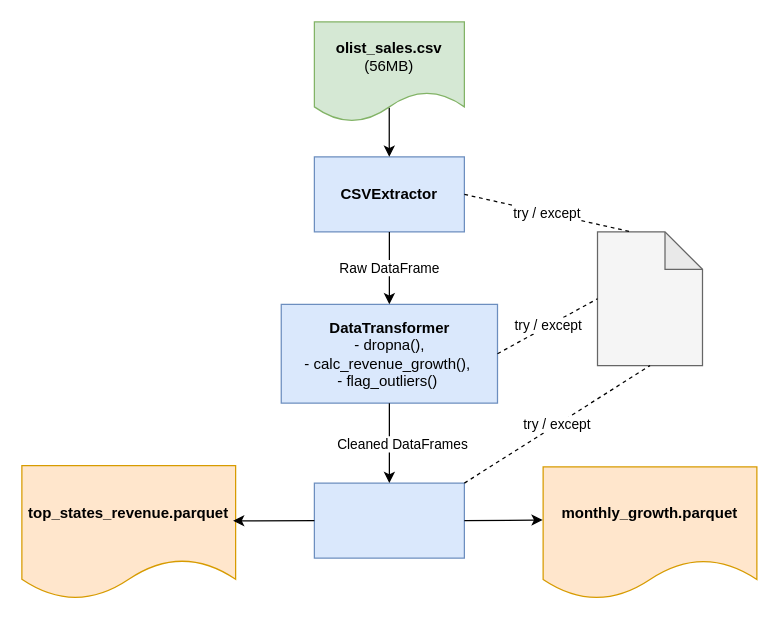
The diagram is 779 pixels wide and 621 high, and some of its shapes have lost their labels. Each missing label, with the centre of its shape:
"ParquetLoader" belongs at [388,520].
"pipeline.log" belongs at [649,298].
